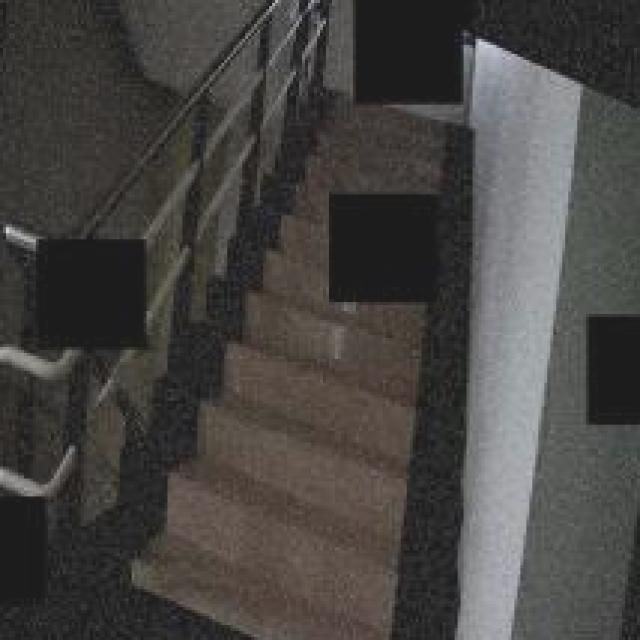upstair: (225, 339, 444, 640)
